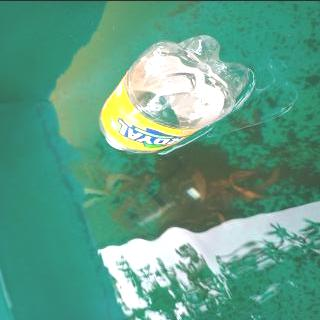bottle: (96, 33, 258, 154)
